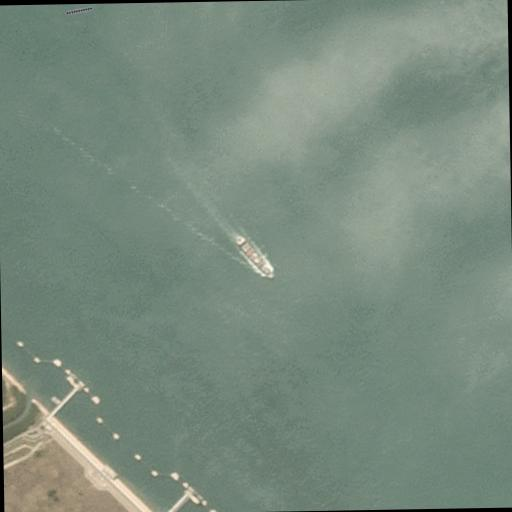ship: (236, 232, 276, 280)
